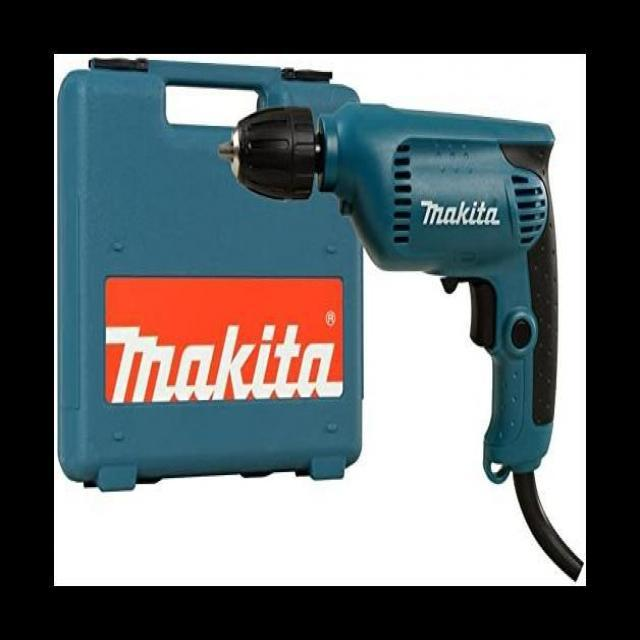drill: (218, 106, 583, 583)
